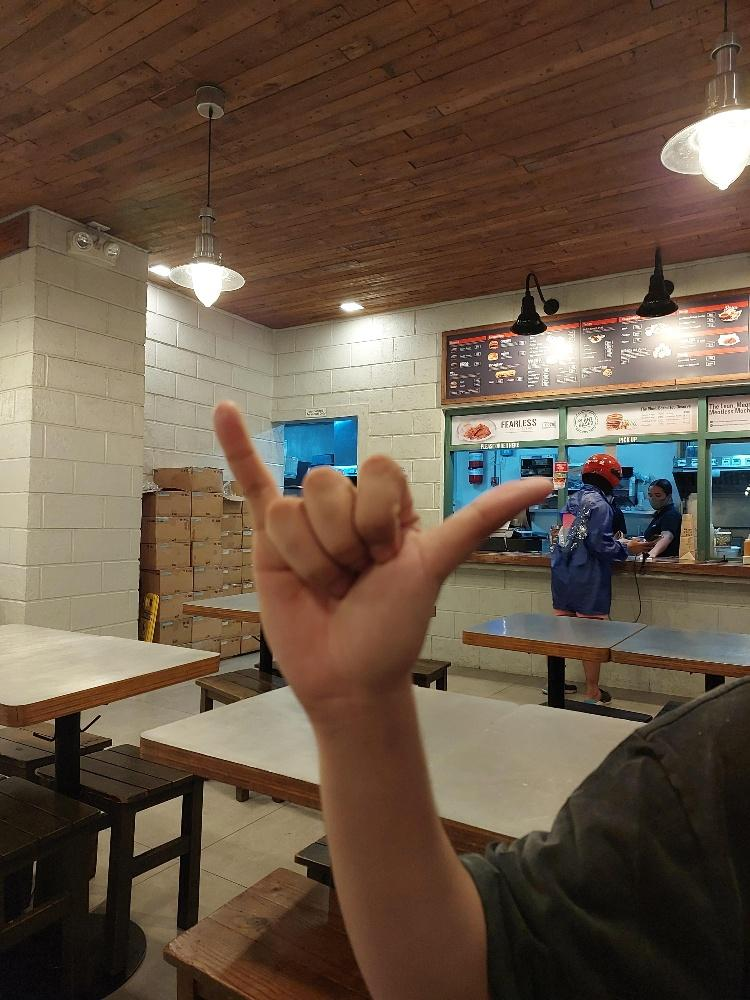y: (210, 398, 553, 698)
